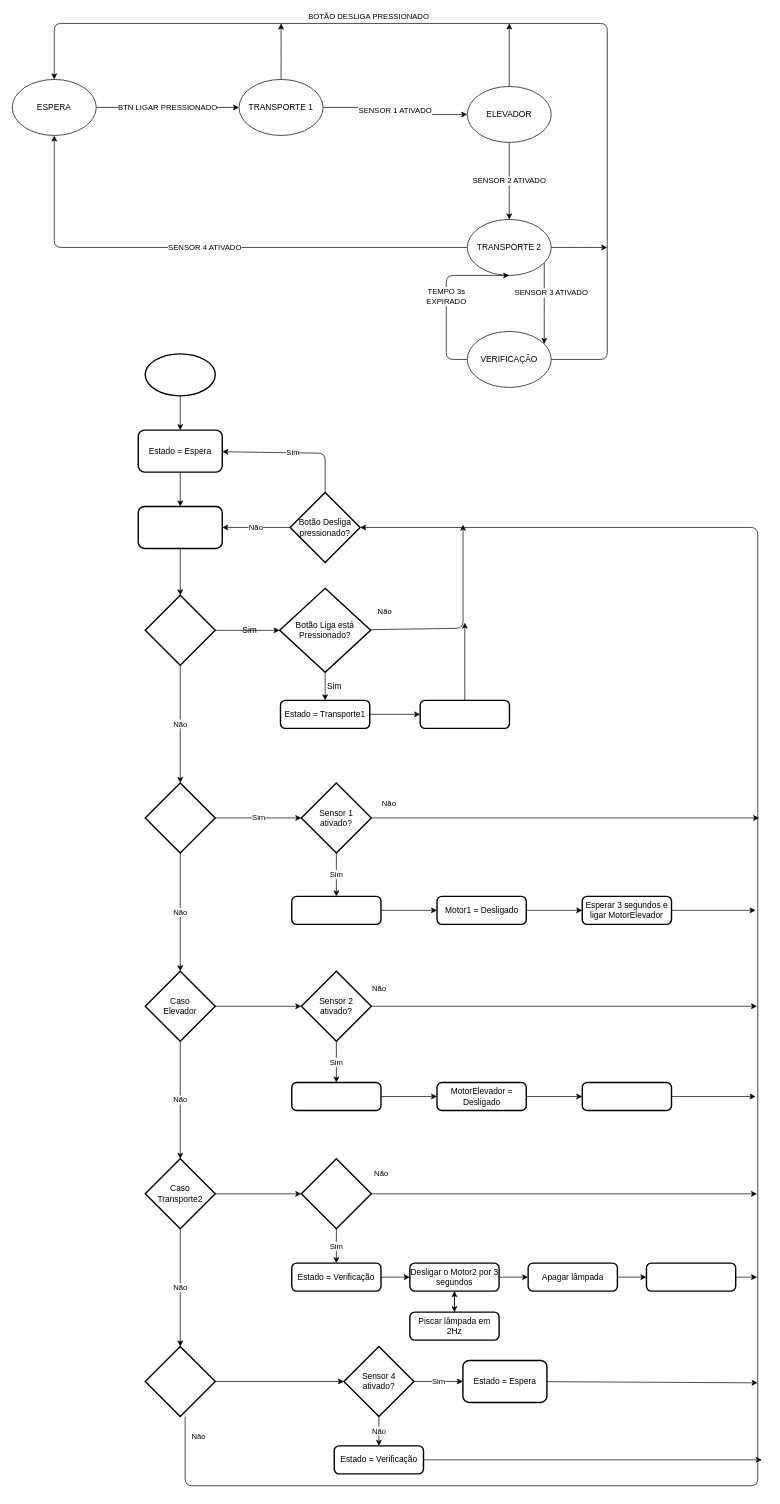
Image size: 780x1504. Some labels were removed from this diagram. Here are the shapes that lost their labels. From the top down, the box of each, then its label:
(144, 353, 216, 396): Início
(137, 505, 223, 549): Switch Estado
(144, 594, 216, 666): Caso Espera
(419, 699, 510, 729): Motor1 = Ligado
(144, 782, 216, 853): Caso Transporte1
(291, 895, 381, 925): Estado = Elevador
(291, 1082, 381, 1111): Estado = Transporte2
(581, 1082, 672, 1111): Motor2 = Ligado
(300, 1158, 372, 1229): Sensor 3 ativado?
(645, 1262, 736, 1292): Ligar o Motor2
(144, 1345, 216, 1417): Caso Verificação
